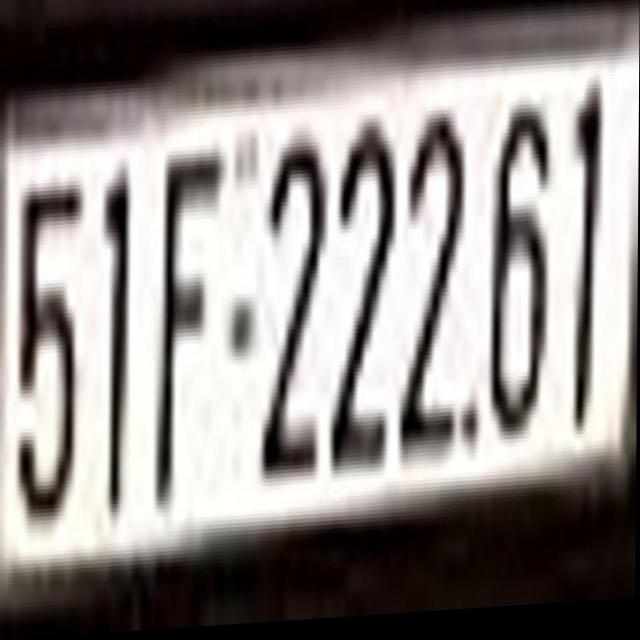1: (568, 81, 606, 444), (100, 149, 129, 526)
2: (398, 103, 463, 475), (328, 119, 395, 479), (261, 130, 323, 498)
5: (12, 155, 85, 527)
6: (491, 88, 552, 467)
F: (151, 116, 227, 512)
